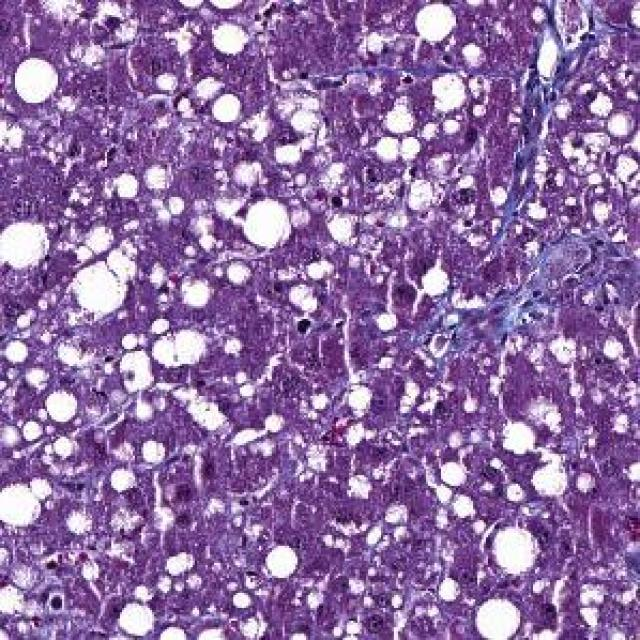fibrosis: (473, 221, 614, 336)
